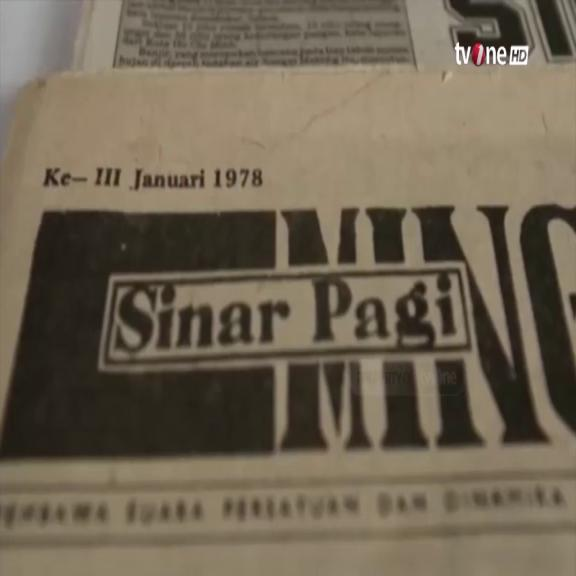Kertas: (5, 58, 574, 570), (77, 1, 576, 77)
